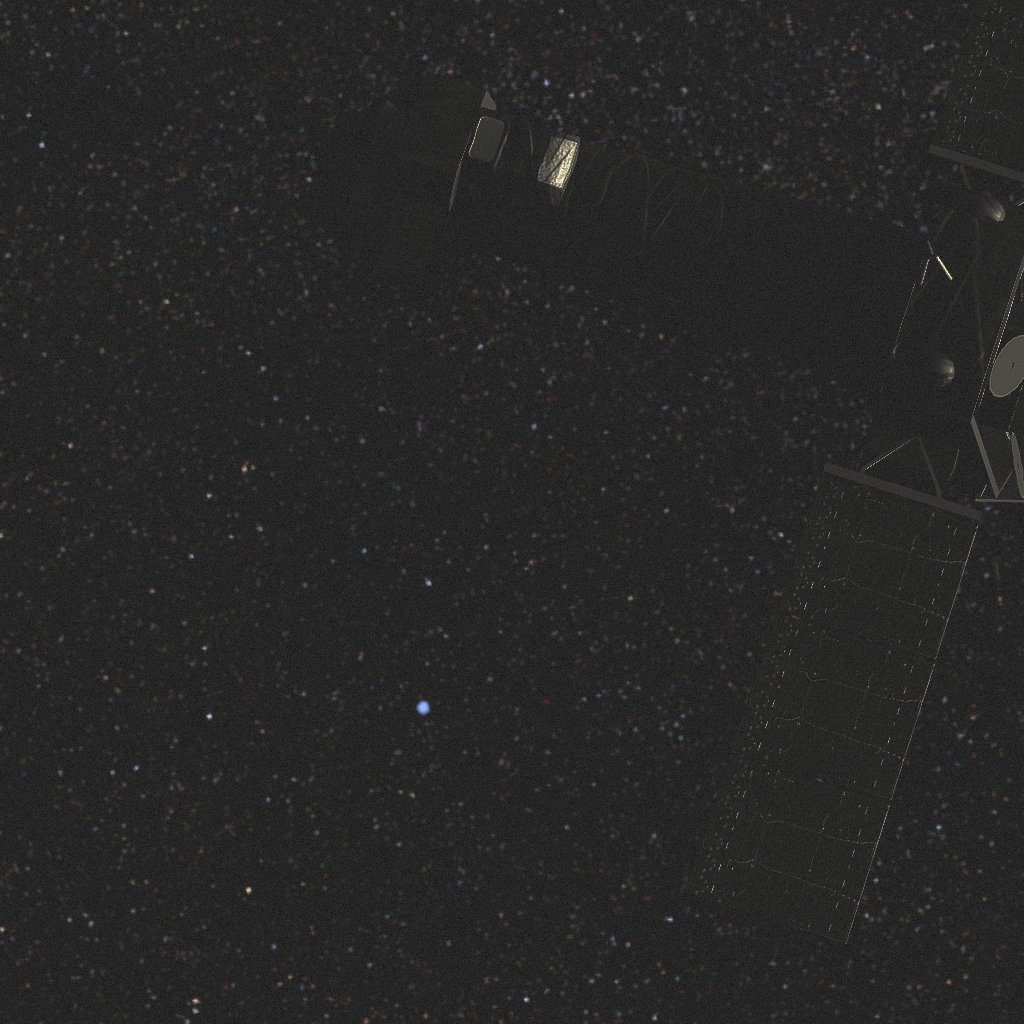xmm_newton: (302, 0, 1024, 945)
